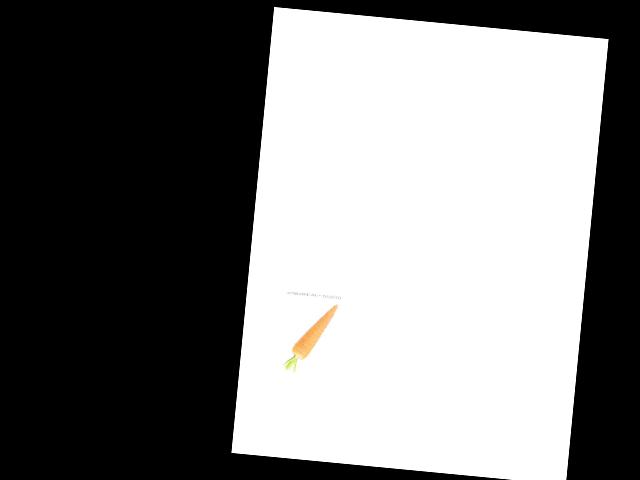carrot: (284, 298, 341, 367)
